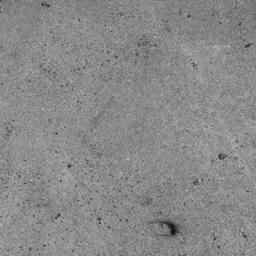FOD: (146, 217, 180, 238)
